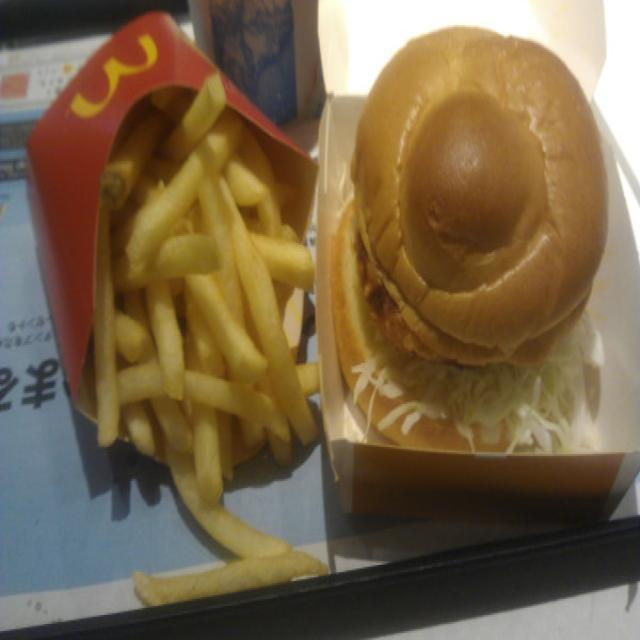French Fries: (72, 78, 318, 486)
Hamburger: (341, 16, 613, 478)
